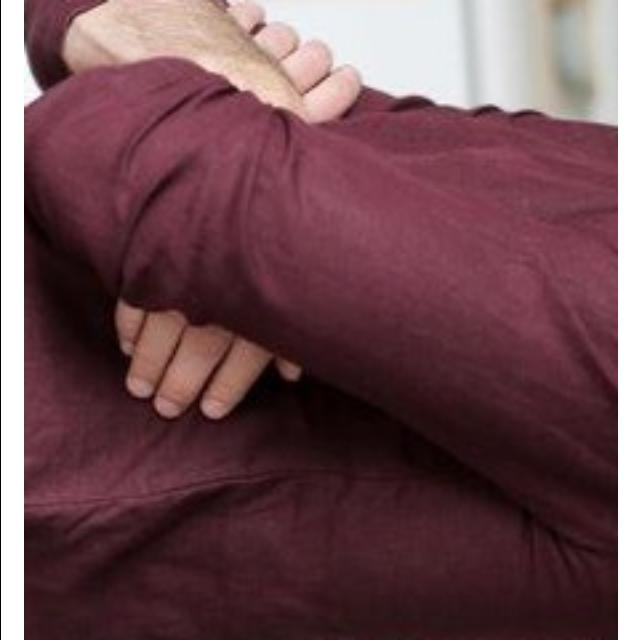linen: (23, 82, 617, 640)
